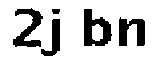2: (10, 6, 43, 48)
b: (80, 5, 112, 51)
j: (40, 2, 63, 60)
n: (115, 14, 151, 51)
